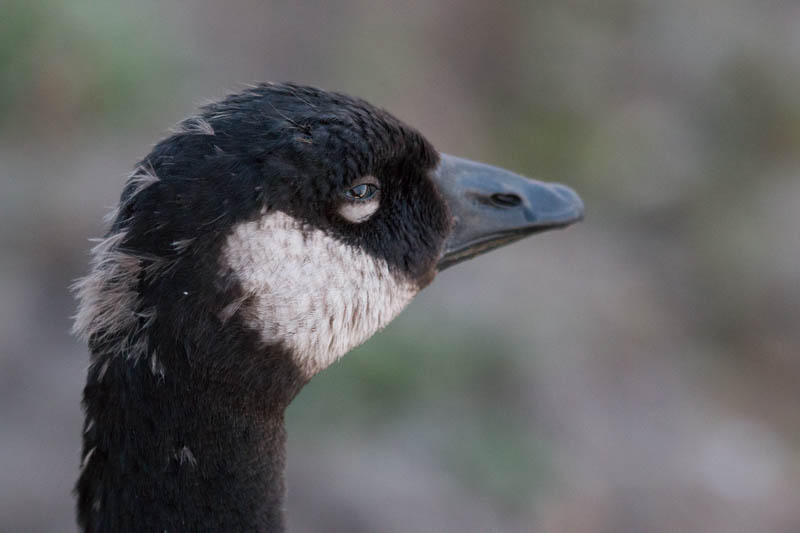goose-head: (83, 78, 586, 406)
